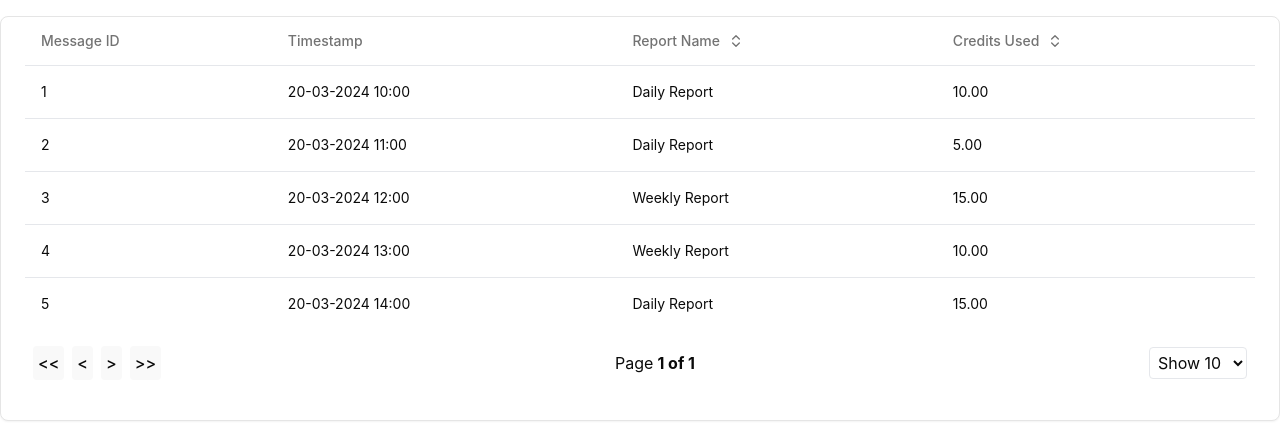
UsageTable Sorting › Single Column Sorting › sorts report name column correctly
This screenshot has width=1280, height=438.
// Ascending sort
Click the text "Report Name".
click(688, 40)  # box [632,32,744,49]
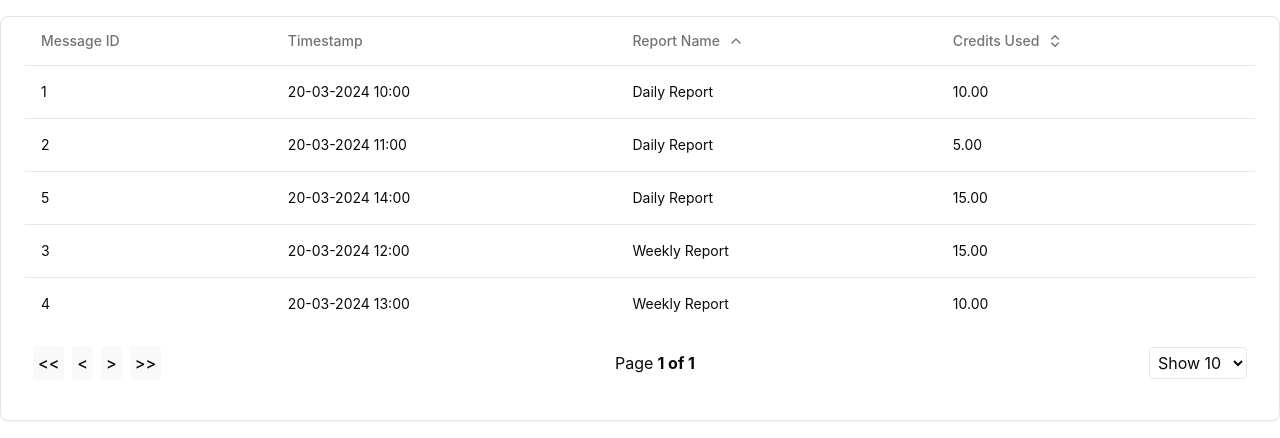
Now the icon with test id "sort-asc" is shown, box [728,33,744,49]
// Descending sort
Click the text "Report Name".
click(688, 40)  # box [632,32,744,49]
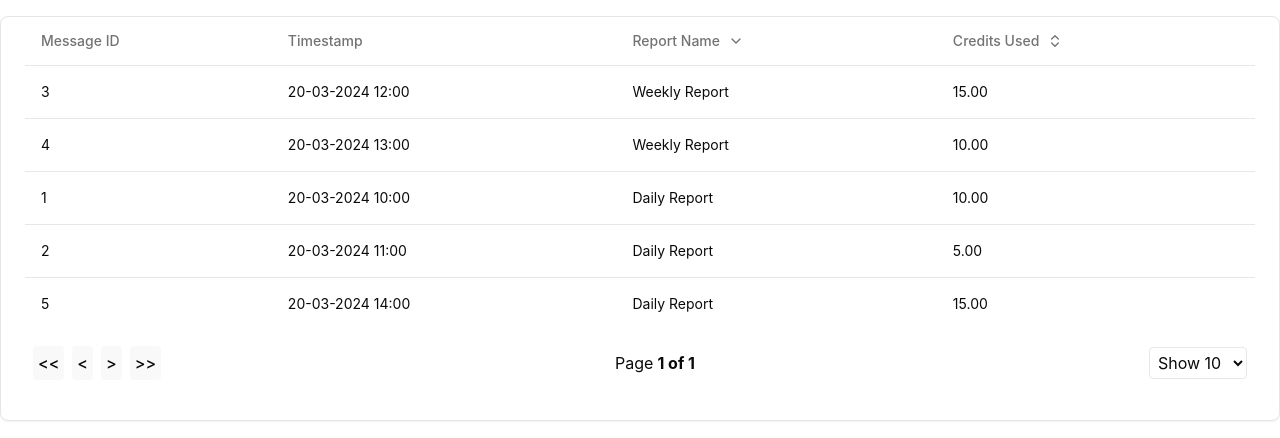
Now the icon with test id "sort-desc" is shown, box [728,33,744,49]
